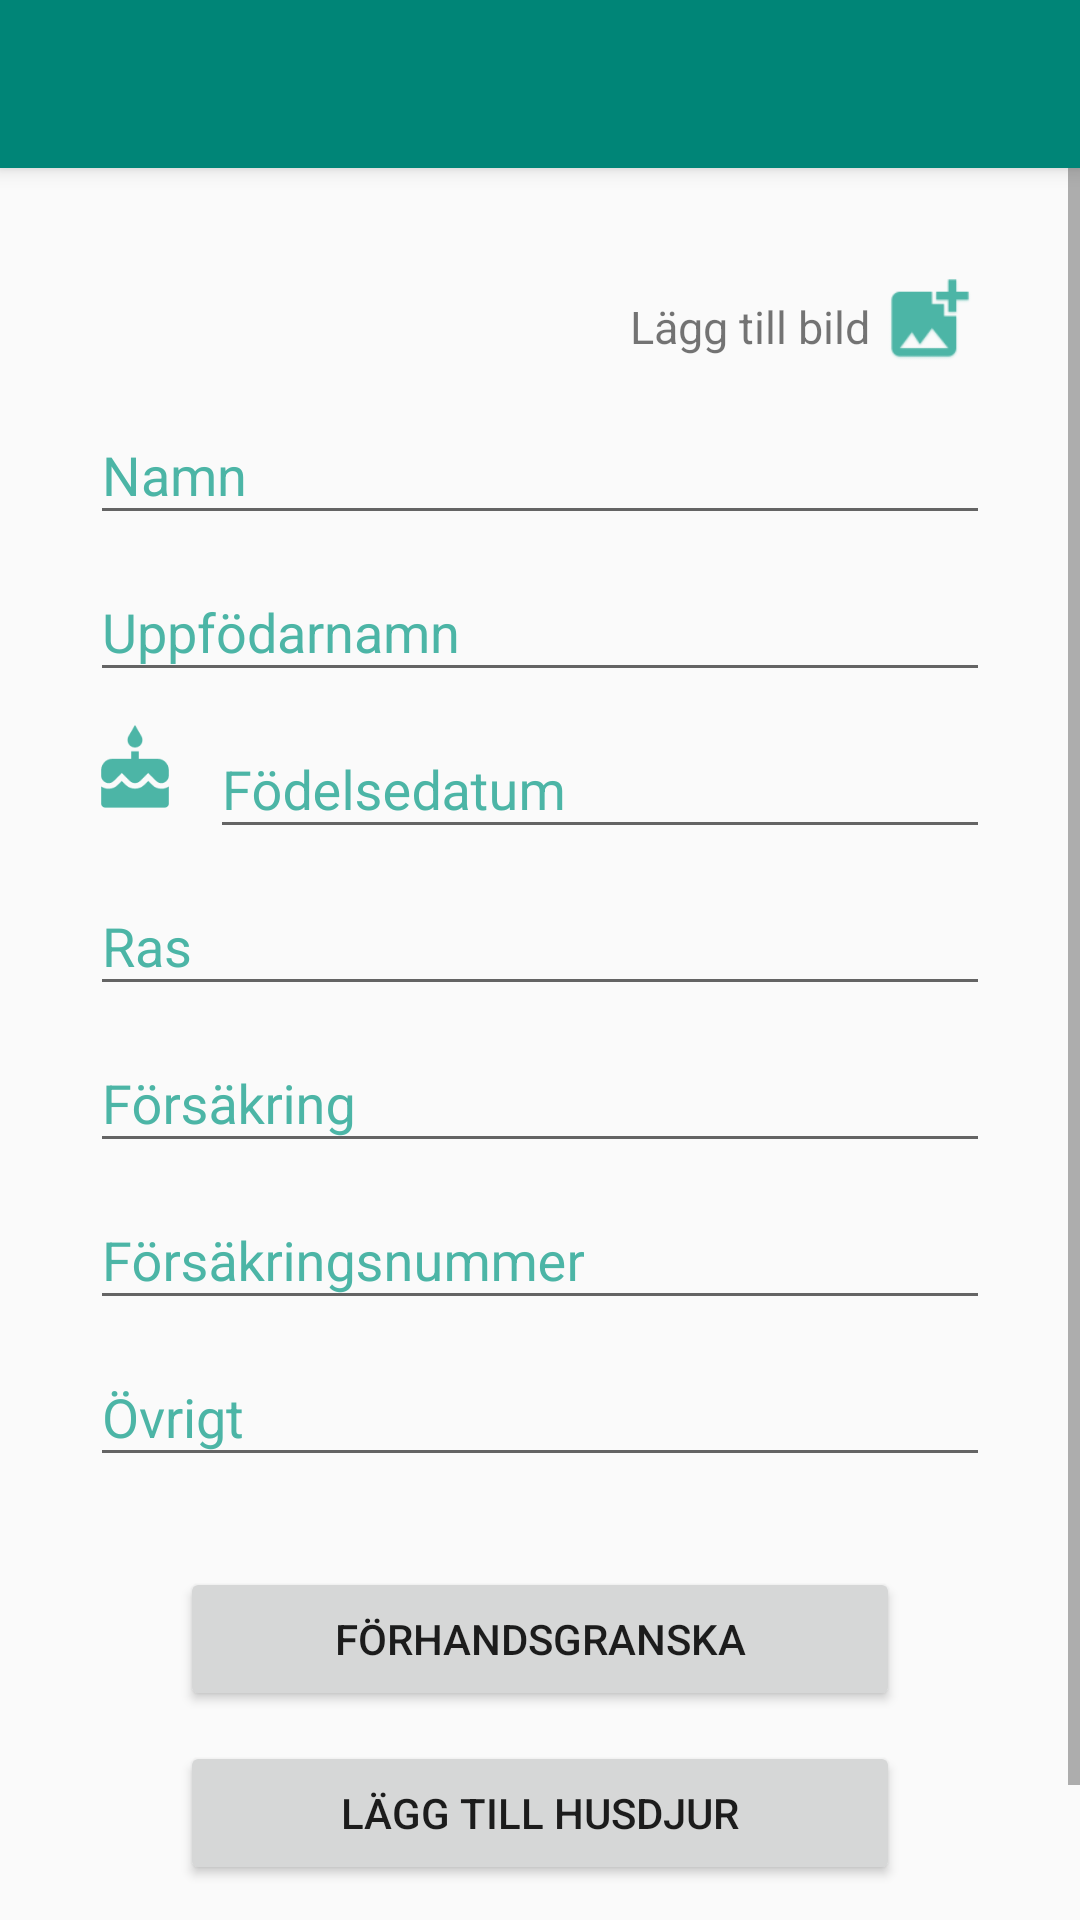

Icon click points for this 1080px x 1920px phone screenshot, format [x,y]:
cake: [135,766]
